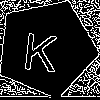K: (21, 23, 60, 73)
